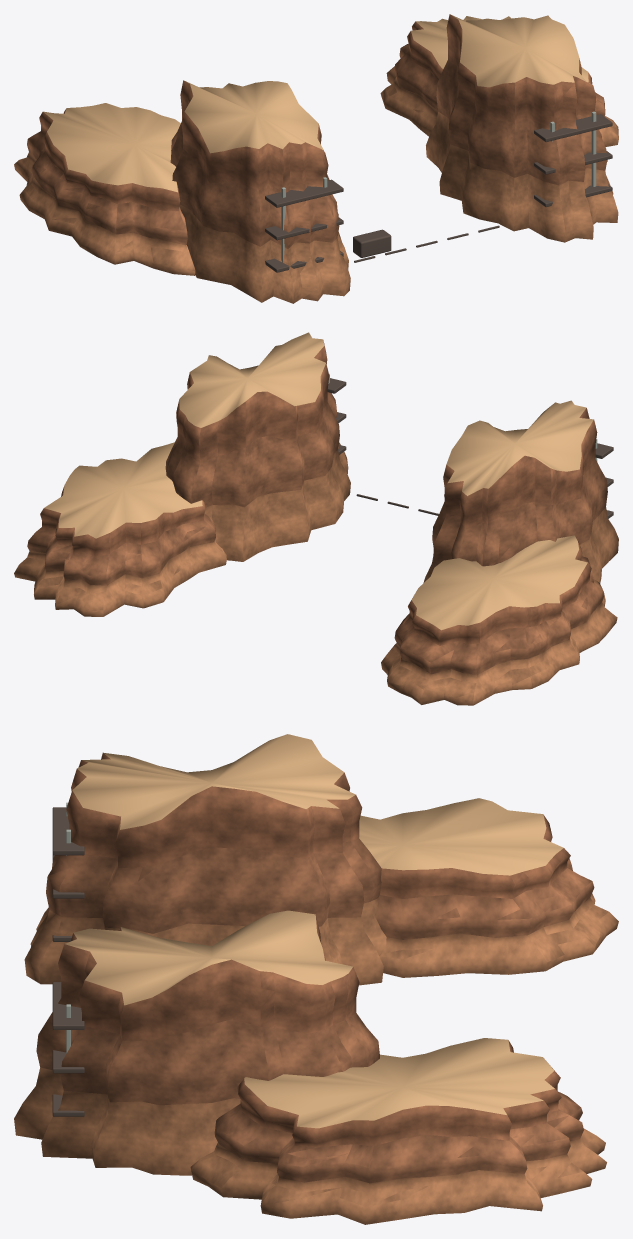
File: mine-canyon-v1.glb
3 renders of one model, top to bottom at view 1: azimuth 30°, elevation 25°; view 2: azimuth 150°, elevation 25°; view 3: azimuth 270°, elevation 25°, orthographic. The views are drawn at different scales.
Parts seen in each view (by area): view 1: mine-canyon strata 0, mine-canyon mantle, mine-canyon strata 1, mine-canyon strata 2, mine-canyon alloy, mine-canyon trim; view 2: mine-canyon mantle, mine-canyon strata 1, mine-canyon strata 0, mine-canyon strata 2, mine-canyon alloy; view 3: mine-canyon strata 1, mine-canyon mantle, mine-canyon strata 0, mine-canyon strata 2, mine-canyon alloy.
Boxes of the visible parts, <box> form: mine-canyon strata 0: <box>14,66,618,303</box>; mine-canyon mantle: <box>43,15,589,192</box>; mine-canyon strata 1: <box>27,43,607,248</box>; mine-canyon strata 2: <box>39,14,596,211</box>; mine-canyon alloy: <box>265,114,612,272</box>; mine-canyon trim: <box>281,111,596,262</box>; mine-canyon mantle: <box>44,332,593,630</box>; mine-canyon strata 1: <box>27,392,607,675</box>; mine-canyon strata 0: <box>14,442,618,705</box>; mine-canyon strata 2: <box>40,342,597,645</box>; mine-canyon alloy: <box>327,378,613,518</box>; mine-canyon strata 1: <box>36,838,594,1183</box>; mine-canyon mantle: <box>65,734,563,1128</box>; mine-canyon strata 0: <box>14,893,618,1224</box>; mine-canyon strata 2: <box>58,753,570,1147</box>; mine-canyon alloy: <box>52,807,84,1116</box>.
Size of the model in its own units: 104 by 28.79 by 76.04.
6 materials, 3 textured.
